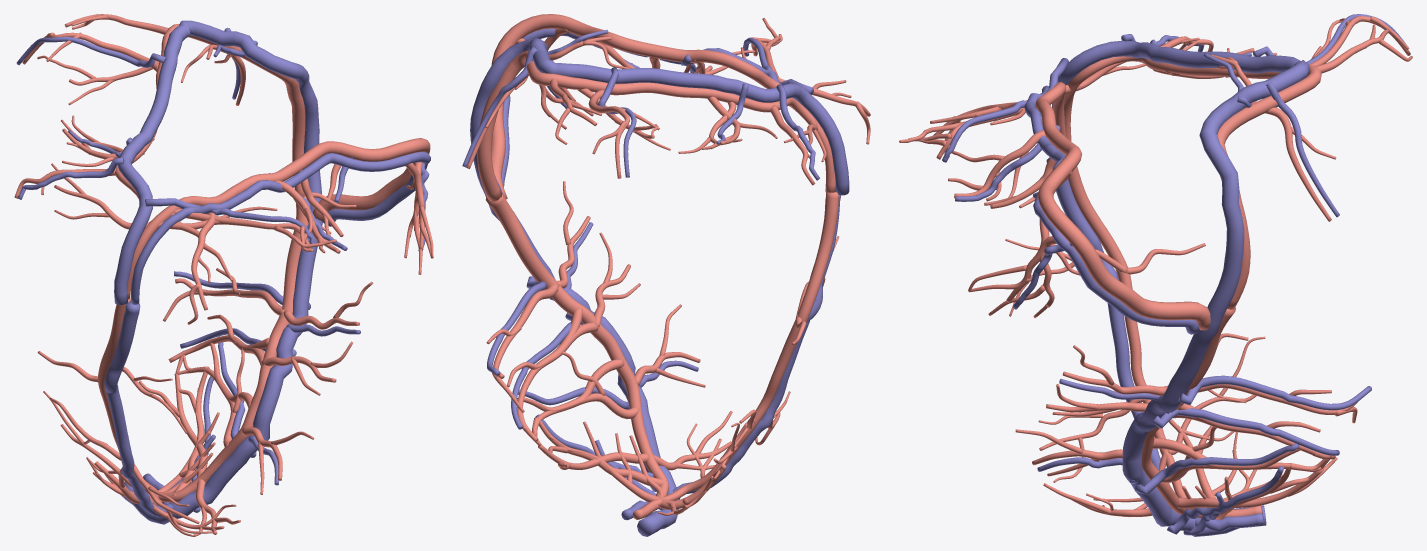
Rendered from vessels_52.glb.
3 renders of one model, left to right at view 1: azimuth 30°, elevation 25°; view 2: azimuth 150°, elevation 25°; view 3: azimuth 270°, elevation 25°, orthographic. The views are drawn at different scales.
Parts seen in each view (by area): view 1: Renderer Node; view 2: Renderer Node; view 3: Renderer Node.
Boxes of the visible parts, bbox=[...] form: Renderer Node: bbox=[14, 14, 433, 536]; Renderer Node: bbox=[462, 14, 870, 536]; Renderer Node: bbox=[899, 14, 1412, 536].
Size of the model in its own units: 95.51 by 115 by 105.
